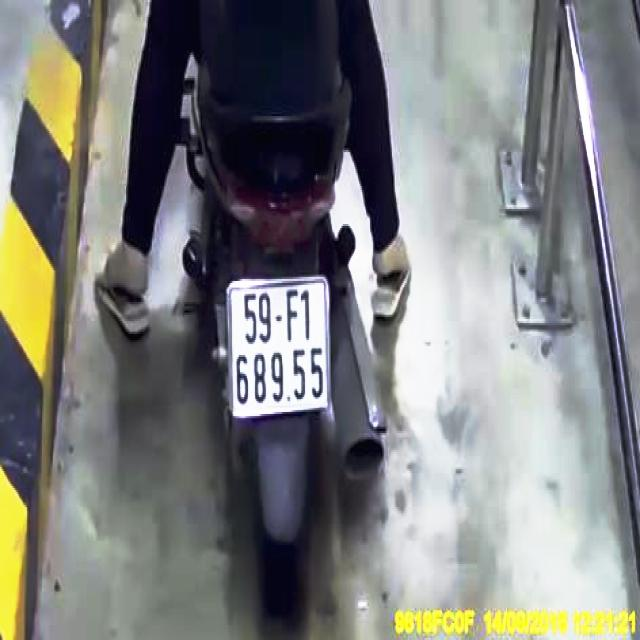license_plate: (229, 279, 331, 416)
